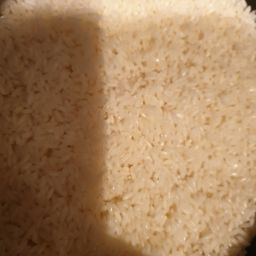Rice: (7, 7, 256, 256), (33, 48, 177, 256), (45, 105, 225, 188)
